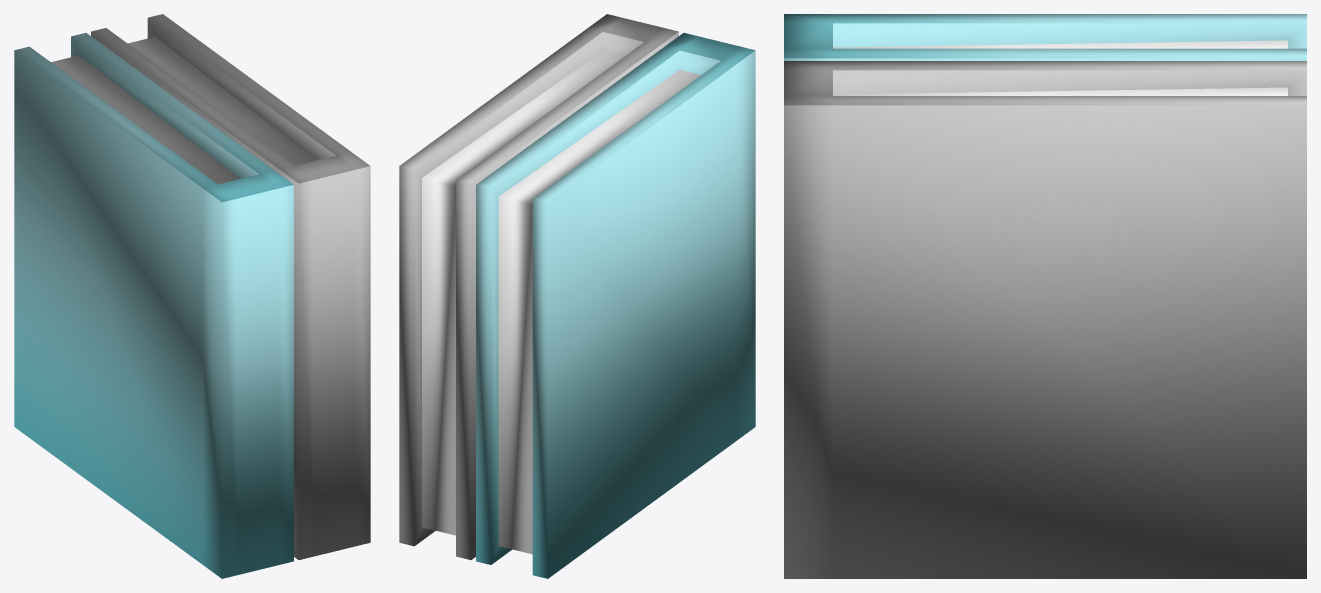
File: Props_Book_04.fbx
3 renders of one model, left to right at view 1: azimuth 30°, elevation 25°; view 2: azimuth 150°, elevation 25°; view 3: azimuth 270°, elevation 25°, orthographic. The views are drawn at different scales.
Visible parts, largest first — view 1: Props_Book_04; view 2: Props_Book_04; view 3: Props_Book_04.
Boxes of the visible parts, bbox=[...] form: Props_Book_04: bbox=[14, 14, 370, 578]; Props_Book_04: bbox=[399, 14, 755, 578]; Props_Book_04: bbox=[784, 14, 1306, 578].
Size of the model in its own units: 20.91 by 50.6 by 50.6.
